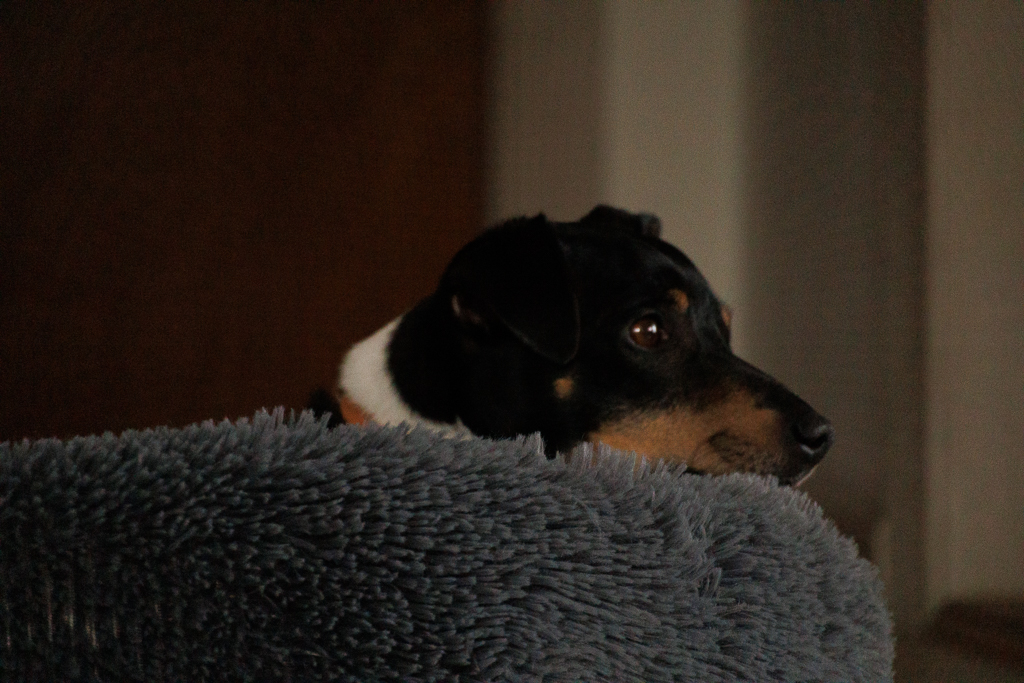Dog: (253, 194, 841, 499)
